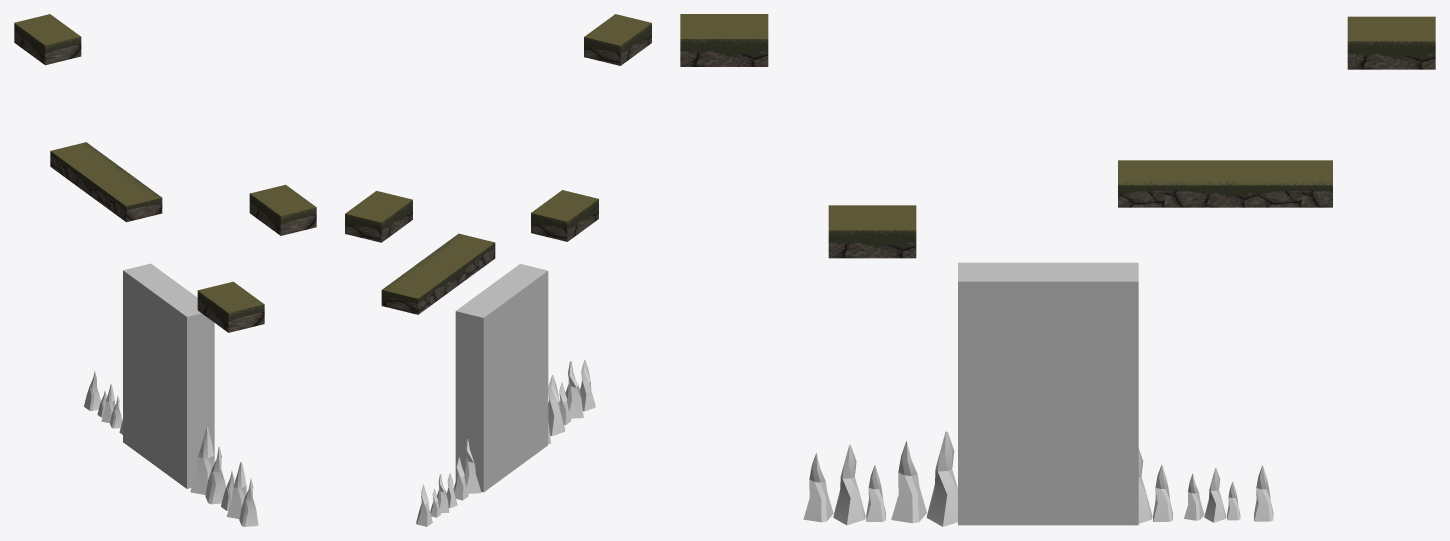
Rendered from Region_2_Level_3.fbx.
3 views of the same model, side by side, from view 1: azimuth 30°, elevation 25°; view 2: azimuth 150°, elevation 25°; view 3: azimuth 270°, elevation 25° (orthographic). The views are drawn at different scales.
Visible parts, largest first — view 1: Cube.001, Cube.020, Cube.022, Cube.002, Cube.003, Cube.004; view 2: Cube.001, Cube.020, Cube.022, Cube.002, Cube.003, Cube.004; view 3: Cube.001, Cube.022, Cube.020, Cube.004, Cube.003, Cube.002.
Part boxes in pixels (x1,y1,x2,y2): Cube.001: (123, 263, 214, 488); Cube.020: (50, 142, 162, 222); Cube.022: (84, 370, 258, 526); Cube.002: (249, 184, 316, 235); Cube.003: (197, 281, 264, 332); Cube.004: (14, 14, 81, 65); Cube.001: (455, 264, 548, 492); Cube.020: (381, 233, 495, 314); Cube.022: (416, 360, 595, 526); Cube.002: (584, 14, 651, 65); Cube.003: (531, 190, 598, 241); Cube.004: (345, 191, 412, 242); Cube.001: (958, 262, 1138, 525); Cube.022: (803, 431, 1273, 526); Cube.020: (1118, 160, 1332, 207); Cube.004: (1347, 16, 1435, 69); Cube.003: (828, 205, 916, 258); Cube.002: (680, 14, 768, 66).
Size of the model in its own units: 198 by 1819 by 2535.
